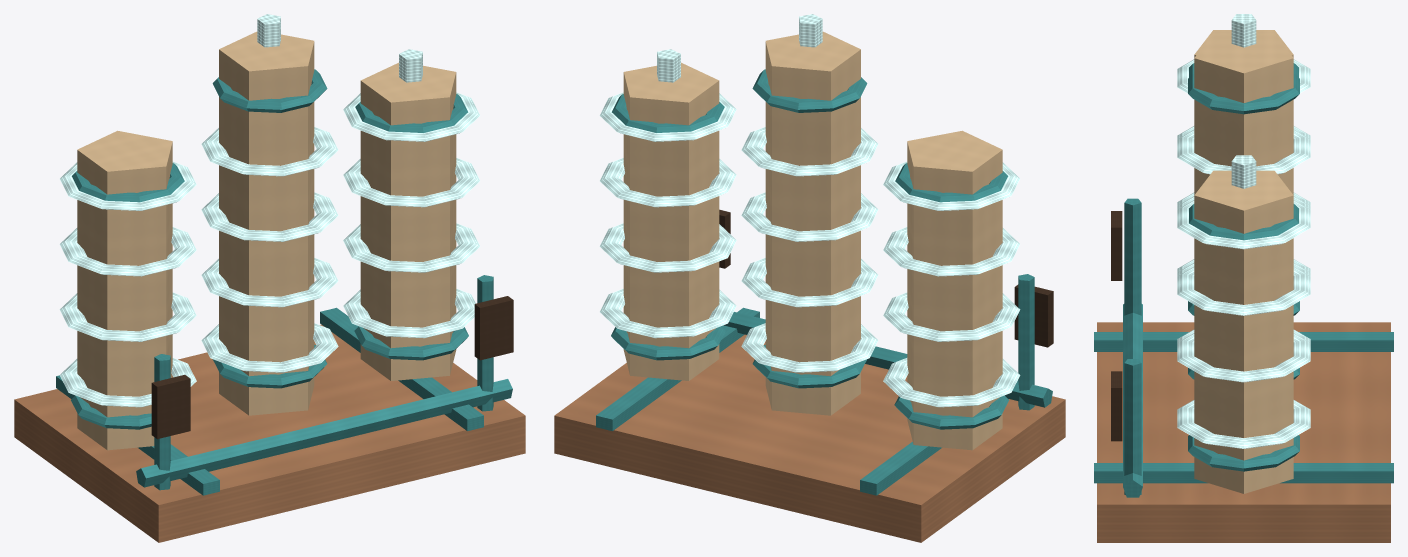
Rendered from atlas100-s094-a01.lod1.glb.
3 renders of one model, left to right at view 1: azimuth 30°, elevation 25°; view 2: azimuth 150°, elevation 25°; view 3: azimuth 270°, elevation 25°, orthographic.
Visible parts, largest first — view 1: atlas100-s094-a01:part-000, atlas100-s094-a01:part-011, atlas100-s094-a01:part-019, atlas100-s094-a01:part-003, atlas100-s094-a01:part-031, atlas100-s094-a01:part-009, atlas100-s094-a01:part-008, atlas100-s094-a01:part-016, atlas100-s094-a01:part-017, atlas100-s094-a01:part-018, atlas100-s094-a01:part-024, atlas100-s094-a01:part-015 (+19 smaller); view 2: atlas100-s094-a01:part-000, atlas100-s094-a01:part-011, atlas100-s094-a01:part-003, atlas100-s094-a01:part-019, atlas100-s094-a01:part-002, atlas100-s094-a01:part-009, atlas100-s094-a01:part-007, atlas100-s094-a01:part-008, atlas100-s094-a01:part-016, atlas100-s094-a01:part-017, atlas100-s094-a01:part-018, atlas100-s094-a01:part-024 (+17 smaller); view 3: atlas100-s094-a01:part-000, atlas100-s094-a01:part-019, atlas100-s094-a01:part-011, atlas100-s094-a01:part-002, atlas100-s094-a01:part-001, atlas100-s094-a01:part-024, atlas100-s094-a01:part-025, atlas100-s094-a01:part-023, atlas100-s094-a01:part-029, atlas100-s094-a01:part-027, atlas100-s094-a01:part-031, atlas100-s094-a01:part-026 (+9 smaller).
Part boxes in pixels (x1,y1,x2,y2): atlas100-s094-a01:part-000: [14, 324, 525, 542]; atlas100-s094-a01:part-011: [219, 31, 314, 415]; atlas100-s094-a01:part-019: [360, 62, 456, 380]; atlas100-s094-a01:part-003: [77, 130, 172, 450]; atlas100-s094-a01:part-031: [136, 379, 512, 487]; atlas100-s094-a01:part-009: [59, 227, 196, 276]; atlas100-s094-a01:part-008: [59, 292, 196, 341]; atlas100-s094-a01:part-016: [201, 257, 338, 307]; atlas100-s094-a01:part-017: [201, 192, 338, 241]; atlas100-s094-a01:part-018: [201, 127, 338, 176]; atlas100-s094-a01:part-024: [343, 223, 480, 272]; atlas100-s094-a01:part-015: [201, 323, 338, 372]; atlas100-s094-a01:part-000: [554, 334, 1065, 542]; atlas100-s094-a01:part-011: [765, 31, 860, 415]; atlas100-s094-a01:part-003: [907, 130, 1002, 450]; atlas100-s094-a01:part-019: [623, 62, 719, 380]; atlas100-s094-a01:part-002: [596, 307, 759, 431]; atlas100-s094-a01:part-009: [883, 227, 1020, 276]; atlas100-s094-a01:part-007: [883, 358, 1020, 407]; atlas100-s094-a01:part-008: [883, 292, 1020, 341]; atlas100-s094-a01:part-016: [741, 257, 878, 307]; atlas100-s094-a01:part-017: [741, 192, 878, 241]; atlas100-s094-a01:part-018: [741, 127, 878, 176]; atlas100-s094-a01:part-024: [599, 223, 736, 272]; atlas100-s094-a01:part-000: [1097, 322, 1390, 542]; atlas100-s094-a01:part-019: [1194, 170, 1293, 493]; atlas100-s094-a01:part-011: [1194, 33, 1293, 194]; atlas100-s094-a01:part-002: [1094, 463, 1393, 483]; atlas100-s094-a01:part-001: [1094, 332, 1393, 351]; atlas100-s094-a01:part-024: [1177, 333, 1310, 382]; atlas100-s094-a01:part-025: [1177, 267, 1310, 315]; atlas100-s094-a01:part-023: [1177, 400, 1310, 448]; atlas100-s094-a01:part-029: [1124, 359, 1141, 494]; atlas100-s094-a01:part-027: [1124, 198, 1141, 315]; atlas100-s094-a01:part-031: [1123, 304, 1142, 497]; atlas100-s094-a01:part-026: [1177, 200, 1310, 249].
Bounding box in the file's own units: 2.9 × 2.93 × 1.84.
Materials: 5 (5 with a texture image).
